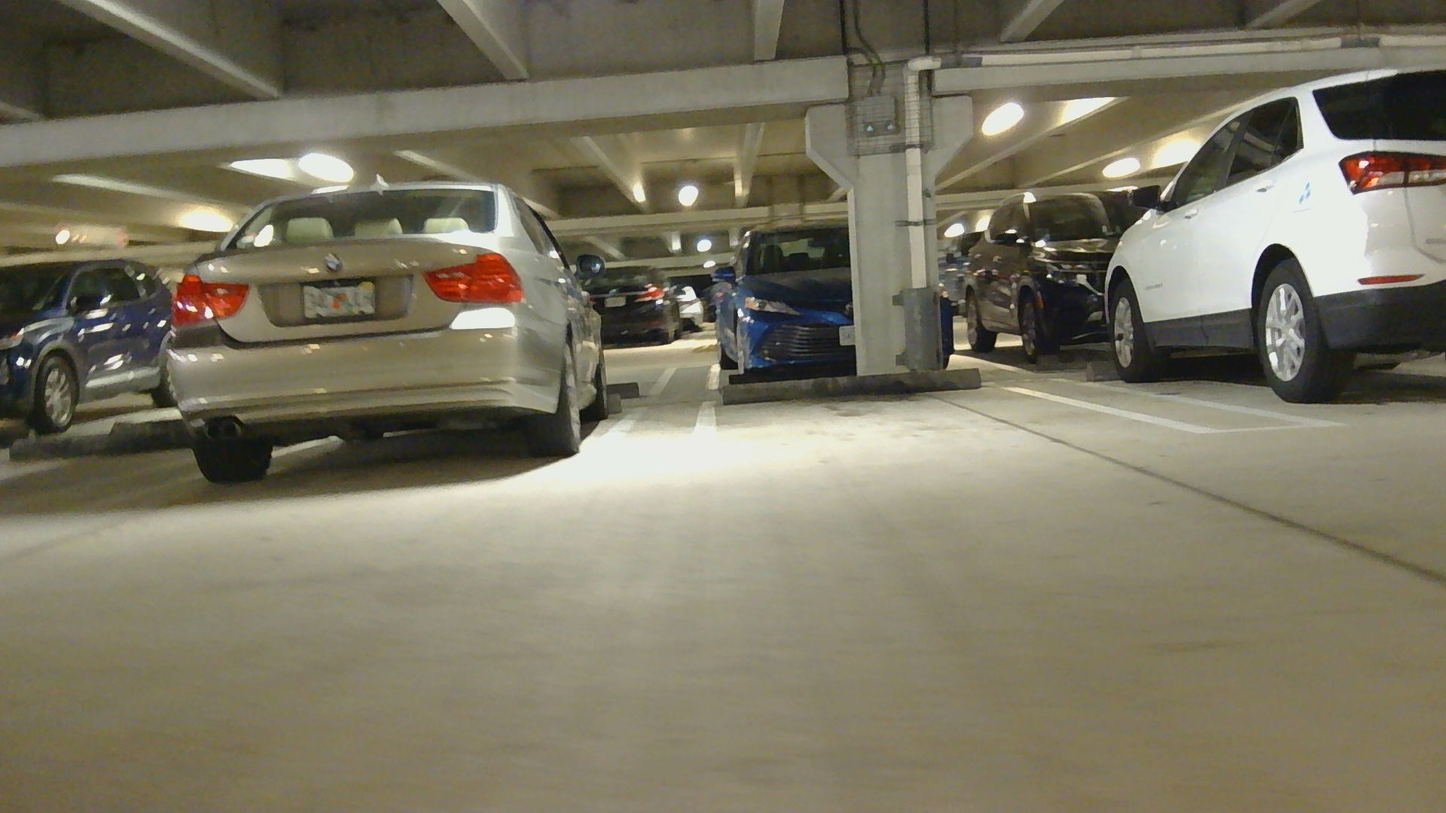empty_spot: (677, 349, 1223, 473)
occupied_spot: (159, 167, 630, 494), (1090, 57, 1445, 423)
